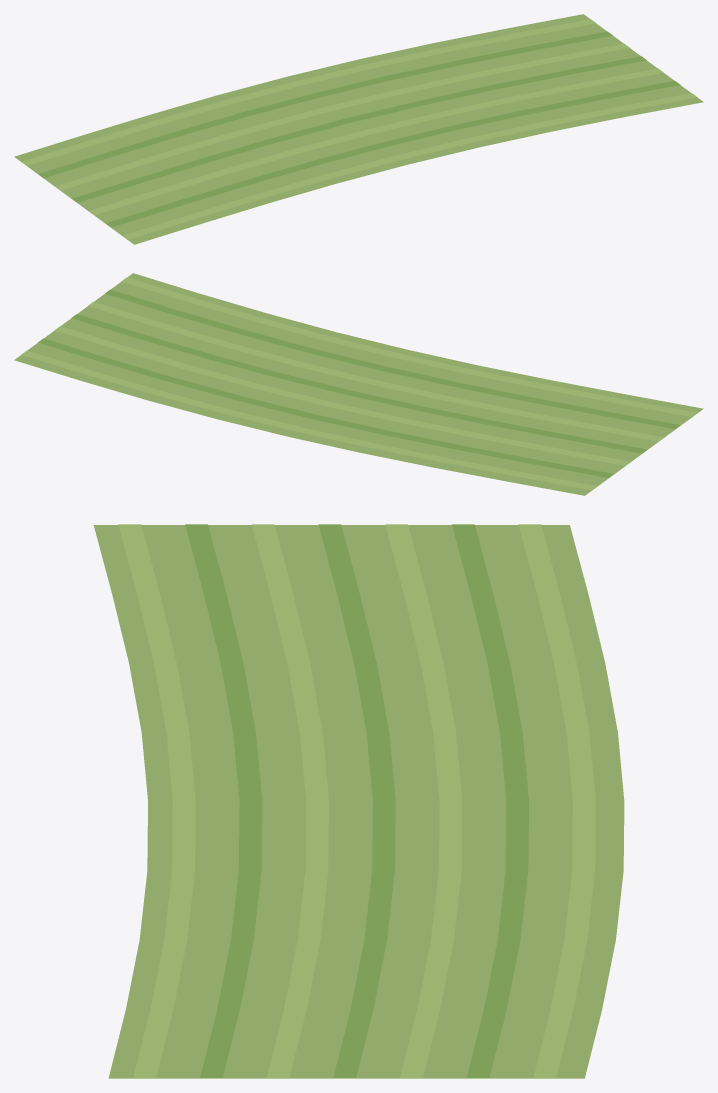
Rendered from Parcelle_8.fbx.
The picture shows the model from 3 angles, top to bottom: view 1: azimuth 30°, elevation 25°; view 2: azimuth 150°, elevation 25°; view 3: azimuth 270°, elevation 25°; orthographic projection. The views are drawn at different scales.
Visible parts, largest first — view 1: Parcelle_8; view 2: Parcelle_8; view 3: Parcelle_8.
Part boxes in pixels (left/top/right/bottom): Parcelle_8: left=14, top=14, right=703, bottom=244; Parcelle_8: left=14, top=273, right=703, bottom=495; Parcelle_8: left=93, top=524, right=624, bottom=1078.
Bounding box in the file's own units: 3300 × 1.7 × 1337.
1 material, 1 textured.
